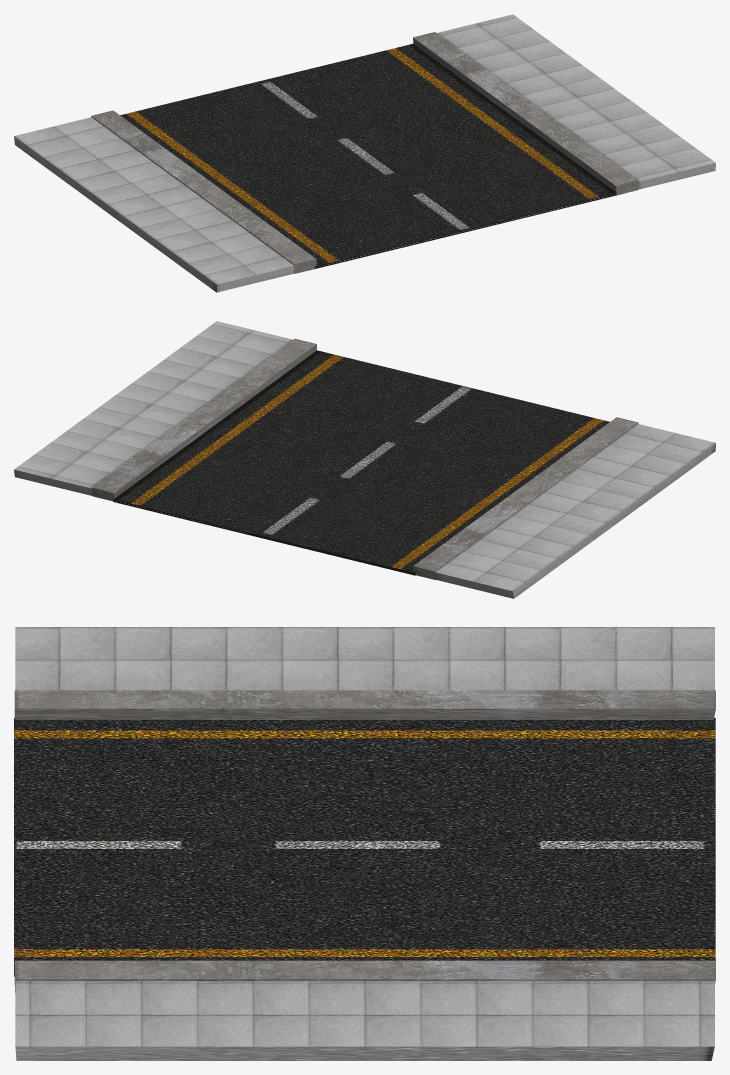
The model's file is road.obj.
3 renders of one model, top to bottom at view 1: azimuth 30°, elevation 25°; view 2: azimuth 150°, elevation 25°; view 3: azimuth 270°, elevation 25°, orthographic. The views are drawn at different scales.
Parts seen in each view (by area): view 1: Cube, Cube.004, Cube.003, Cube.002, Cube.001; view 2: Cube, Cube.004, Cube.003, Cube.002, Cube.001; view 3: Cube, Cube.003, Cube.004, Cube.001, Cube.002.
Boxes of the visible parts, x1=… form: Cube: x1=120, y1=44, x2=616, y2=268; Cube.004: x1=14, y1=117, x2=294, y2=292; Cube.003: x1=437, y1=14, x2=715, y2=189; Cube.002: x1=413, y1=32, x2=638, y2=195; Cube.001: x1=91, y1=110, x2=316, y2=273; Cube: x1=113, y1=350, x2=609, y2=575; Cube.004: x1=435, y1=424, x2=715, y2=598; Cube.003: x1=14, y1=321, x2=292, y2=495; Cube.002: x1=91, y1=338, x2=316, y2=501; Cube.001: x1=413, y1=417, x2=638, y2=579; Cube: x1=14, y1=718, x2=715, y2=976; Cube.003: x1=15, y1=981, x2=714, y2=1060; Cube.004: x1=15, y1=627, x2=714, y2=690; Cube.001: x1=14, y1=690, x2=715, y2=719; Cube.002: x1=14, y1=960, x2=715, y2=992.
Bounding box in the file's own units: 26.72 × 0.4801 × 18.89.
